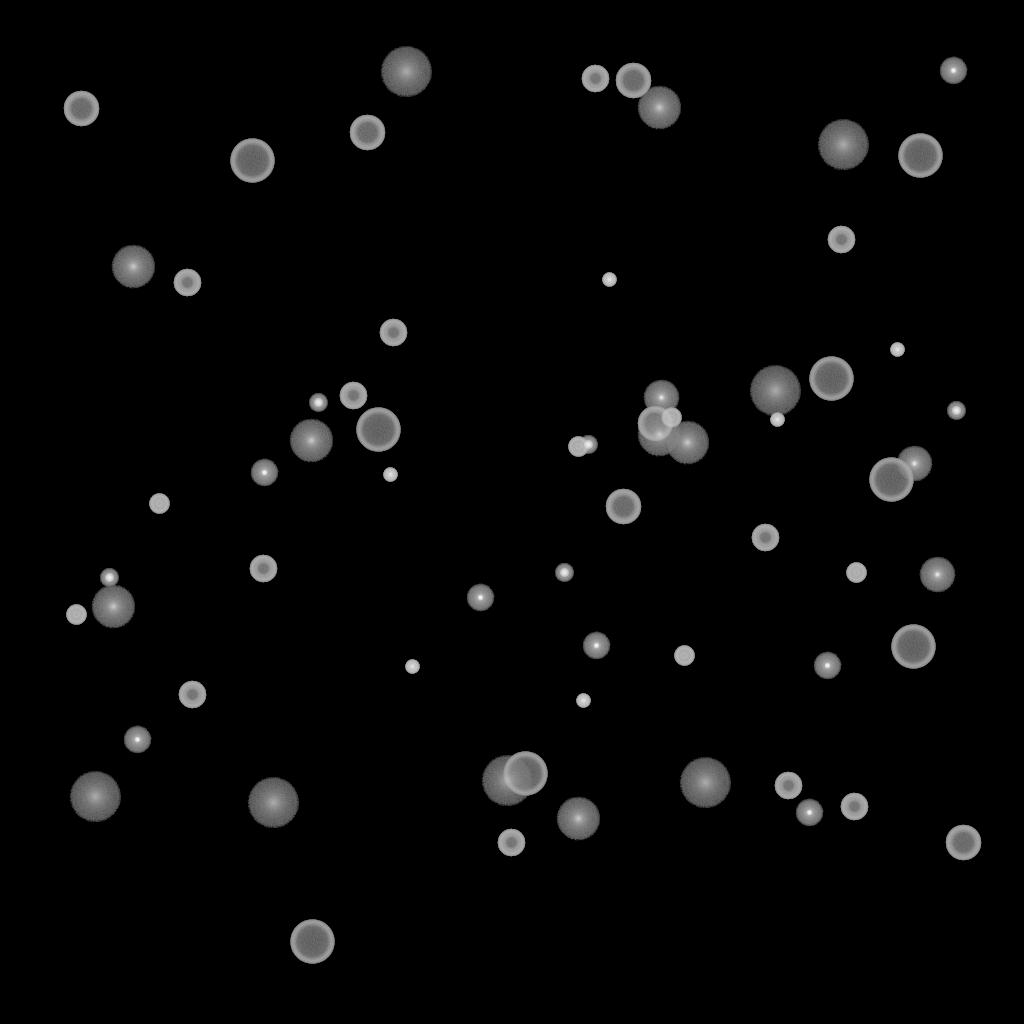depth:-10: (582, 632, 610, 660), (813, 652, 841, 680), (250, 459, 278, 487), (939, 57, 967, 85), (123, 726, 151, 754), (466, 584, 494, 612), (795, 799, 823, 827)
depth:-20: (555, 564, 573, 582), (309, 394, 327, 412), (579, 436, 597, 454), (947, 402, 965, 420), (100, 569, 118, 587)
depth:-30: (770, 413, 784, 427), (405, 660, 419, 674), (576, 694, 590, 708), (890, 343, 904, 357), (602, 273, 616, 287), (383, 468, 397, 482)
depth:-40: (66, 605, 86, 625), (149, 494, 169, 514), (674, 646, 694, 666), (661, 408, 681, 428), (568, 437, 588, 457), (846, 563, 866, 583)
depth:-50: (827, 226, 855, 254), (339, 382, 367, 410), (751, 524, 779, 552), (173, 269, 201, 297), (840, 793, 868, 821), (497, 829, 525, 857), (178, 681, 206, 709), (379, 319, 407, 347), (581, 65, 609, 93), (249, 555, 277, 583), (774, 772, 802, 800)
depth:-60: (637, 406, 673, 442), (349, 115, 385, 151), (615, 63, 651, 99), (945, 825, 981, 861), (605, 489, 641, 525), (63, 91, 99, 127)
depth:-70: (869, 458, 913, 502), (898, 134, 942, 178), (809, 357, 853, 401), (503, 752, 547, 796), (290, 920, 334, 964), (356, 408, 400, 452), (230, 139, 274, 183), (891, 625, 935, 669)
depth:0: (919, 557, 955, 593), (643, 380, 679, 416), (896, 446, 932, 482)
depth:10: (91, 585, 135, 629), (111, 245, 155, 289), (289, 419, 333, 463), (637, 86, 681, 130), (556, 797, 600, 841), (637, 413, 681, 457), (665, 421, 709, 465)
depth:20: (380, 47, 432, 97), (69, 772, 121, 822), (749, 366, 801, 416), (817, 120, 869, 170), (247, 778, 299, 828), (679, 758, 731, 808), (481, 756, 533, 806)
